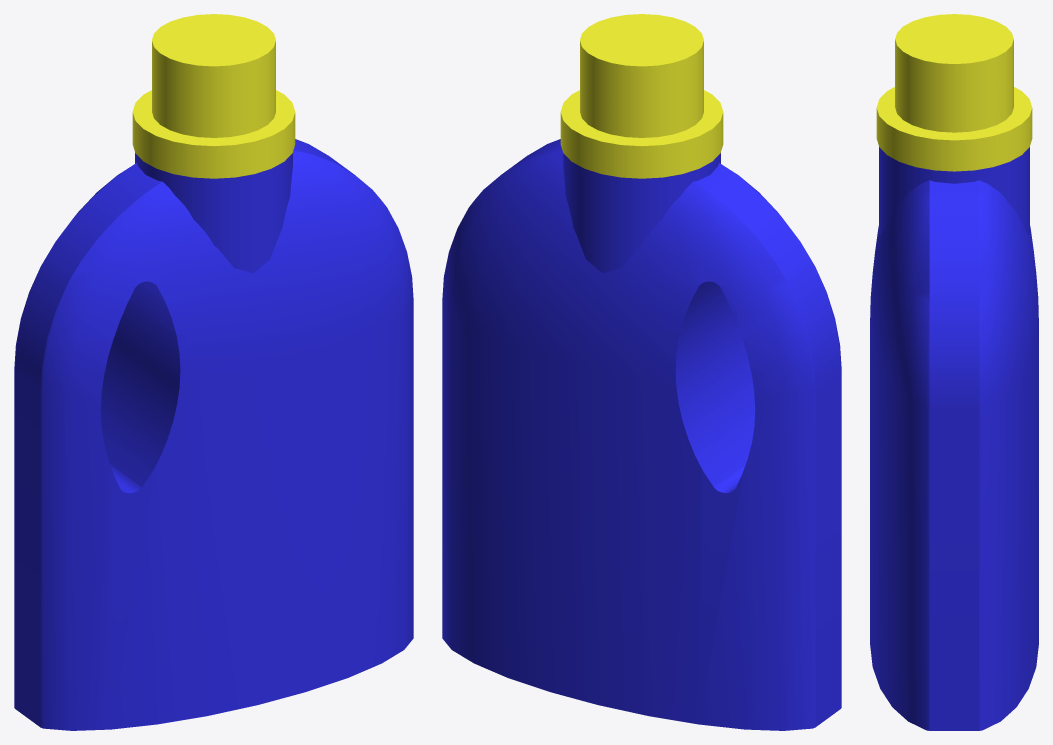
The model's file is Bottle_1.dae.
3 views of the same model, side by side, from view 1: azimuth 30°, elevation 25°; view 2: azimuth 150°, elevation 25°; view 3: azimuth 270°, elevation 25° (orthographic). The views are drawn at different scales.
Parts seen in each view (by area): view 1: group_1 (×2), group_2 (×2); view 2: group_1 (×2), group_2 (×2); view 3: group_1 (×2), group_2 (×2).
Part boxes in pixels (x1,y1,x2,y2): group_1 (×2): (14, 139, 413, 730); group_2 (×2): (132, 14, 295, 178); group_1 (×2): (442, 139, 841, 730); group_2 (×2): (560, 14, 723, 178); group_1 (×2): (870, 147, 1038, 730); group_2 (×2): (876, 14, 1032, 171).
Size of the model in its own units: 7.08 by 2.91 by 11.48.
